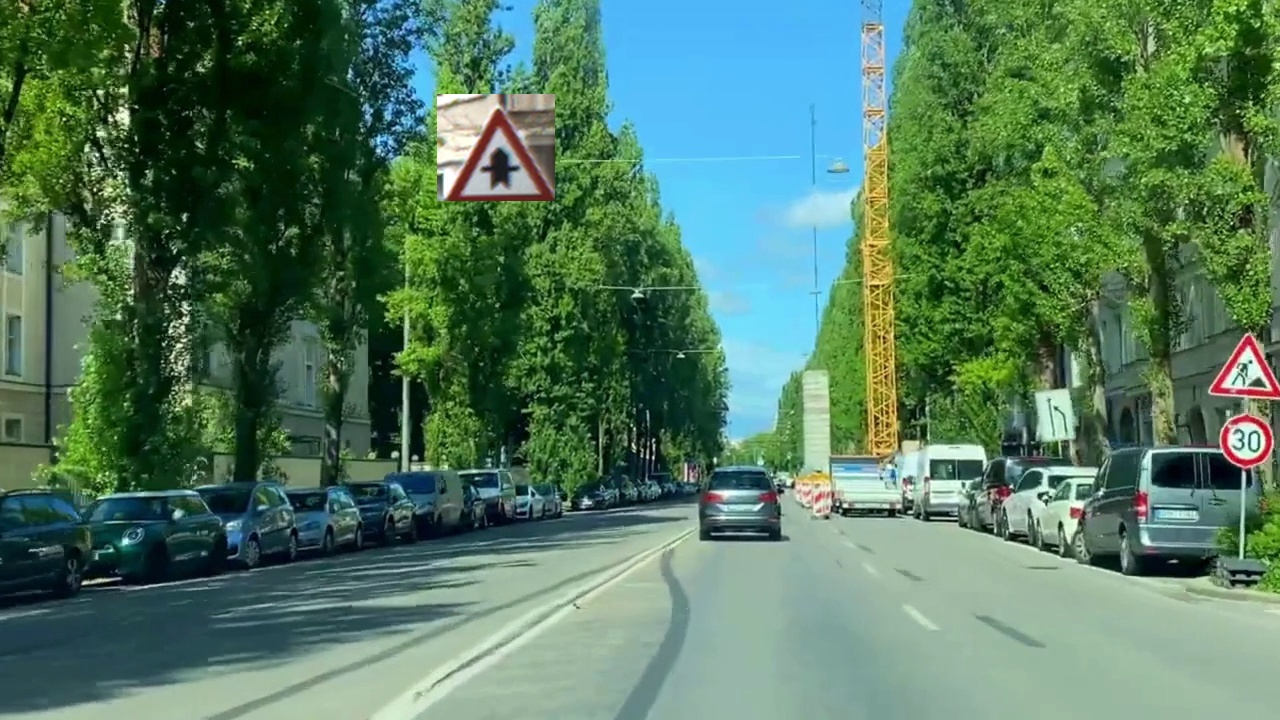Right-of-way: (437, 94, 555, 201)
